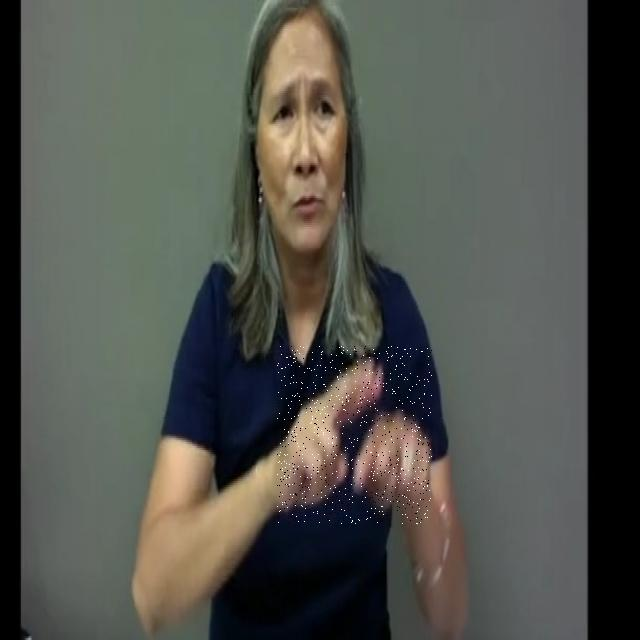salt: (277, 346, 432, 524)
